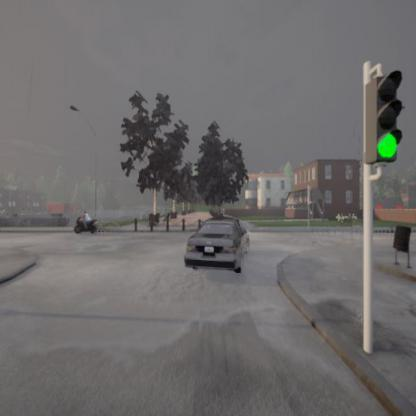motobike: (75, 214, 97, 235)
traffic_light_green: (375, 70, 404, 166)
vehicle: (184, 218, 250, 273)
